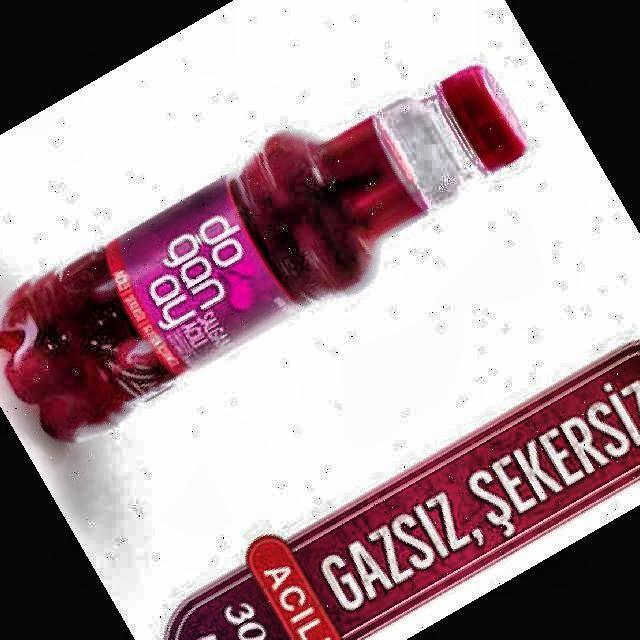plastic: (0, 65, 525, 441)
